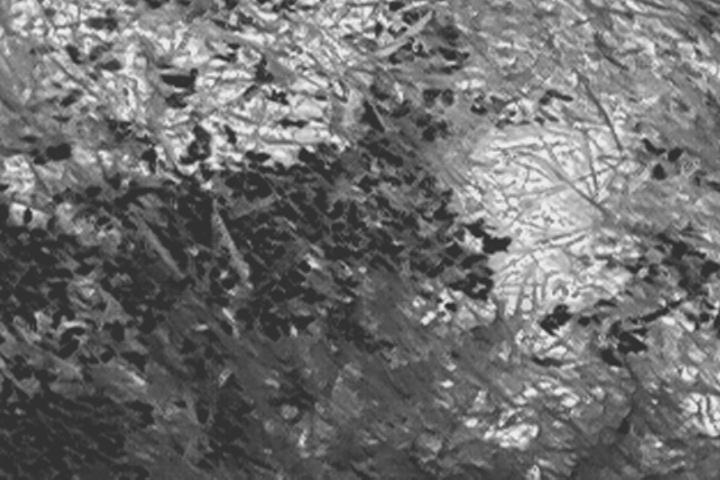landmine: (456, 111, 604, 301)
